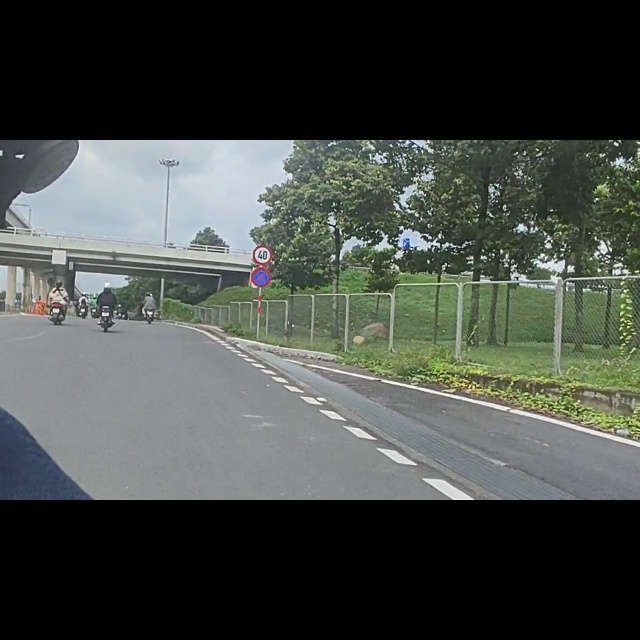bien_cam: (252, 187, 274, 222), (251, 226, 271, 263)
